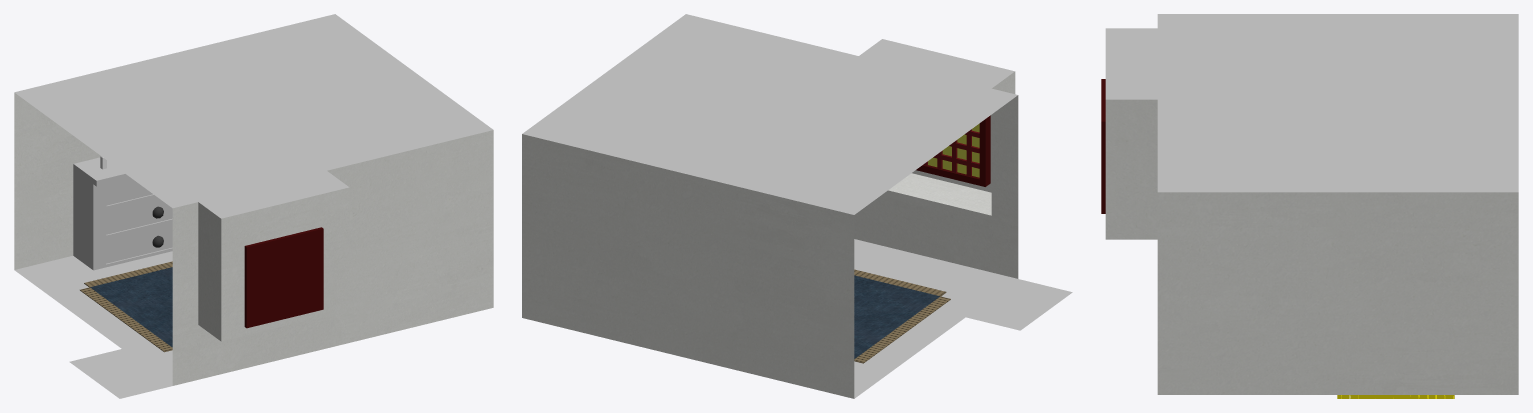
The model's file is 主人公のおうち内装2階.fbx.
3 views of the same model, side by side, from view 1: azimuth 30°, elevation 25°; view 2: azimuth 150°, elevation 25°; view 3: azimuth 270°, elevation 25° (orthographic). The views are drawn at different scales.
Visible parts, largest first — view 1: 平面.002, 立方体.181, 立方体.206, 平面.015; view 2: 平面.002, 平面.015, 立方体.206; view 3: 平面.002, 立方体.206, 立方体.180.
Boxes of the visible parts, x1,y1,x2,y2 form: 平面.002: (14, 14, 493, 398); 立方体.181: (73, 157, 172, 270); 立方体.206: (244, 227, 323, 328); 平面.015: (80, 261, 172, 352); 平面.002: (522, 14, 1072, 398); 平面.015: (854, 269, 950, 363); 立方体.206: (916, 115, 990, 186); 平面.002: (1105, 14, 1518, 394); 立方体.206: (1101, 79, 1105, 213); 立方体.180: (1337, 395, 1454, 398).
Size of the model in its own units: 3551 by 1650 by 3012.
